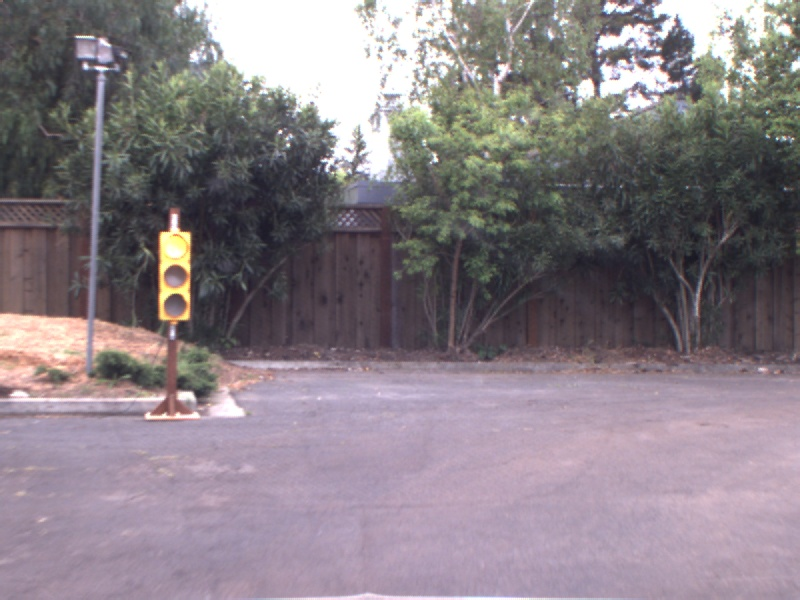red: (156, 220, 192, 323)
